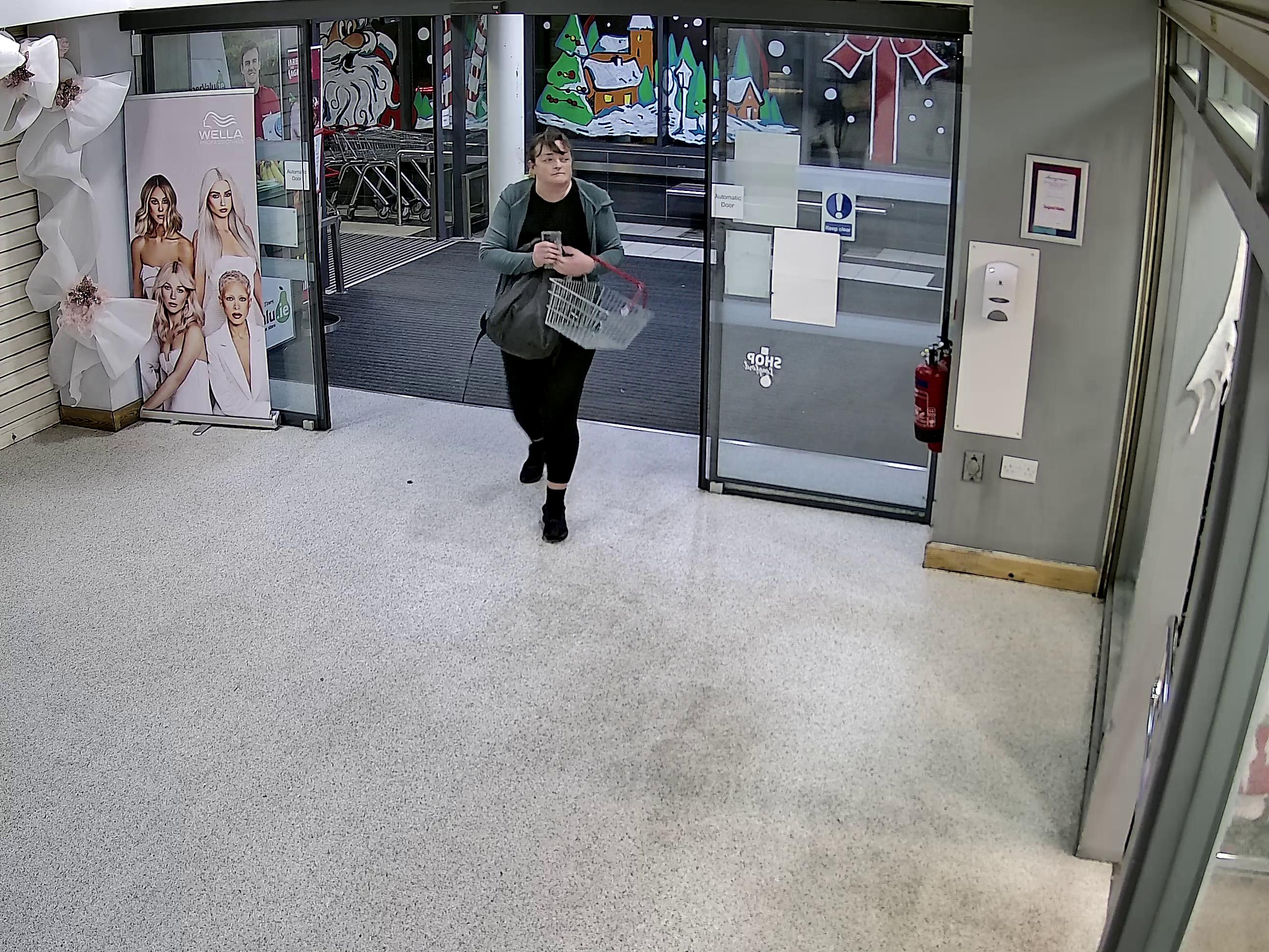backpack-or-handbag: (482, 238, 561, 358)
empty-basket: (544, 248, 655, 352)
person: (481, 129, 626, 541)
person-with-basket-trolly-and-backpack-handbag: (484, 128, 656, 543)
